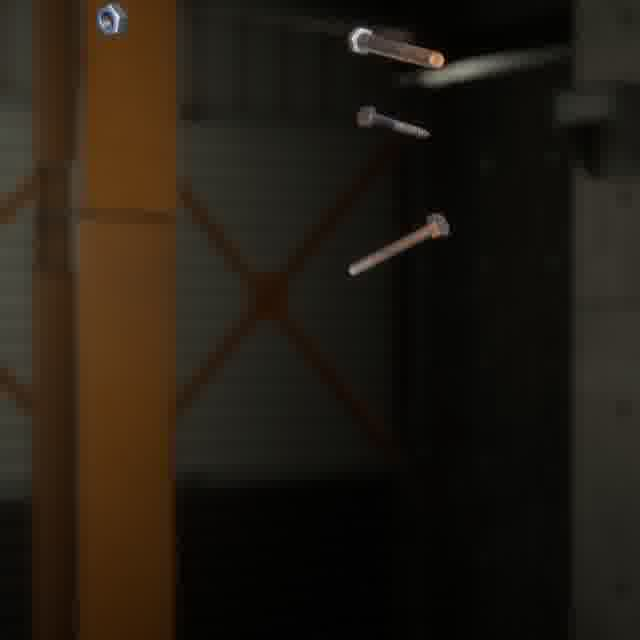bolt: (344, 209, 453, 280), (343, 22, 448, 73), (352, 101, 433, 142)
nut: (91, 0, 131, 41)
